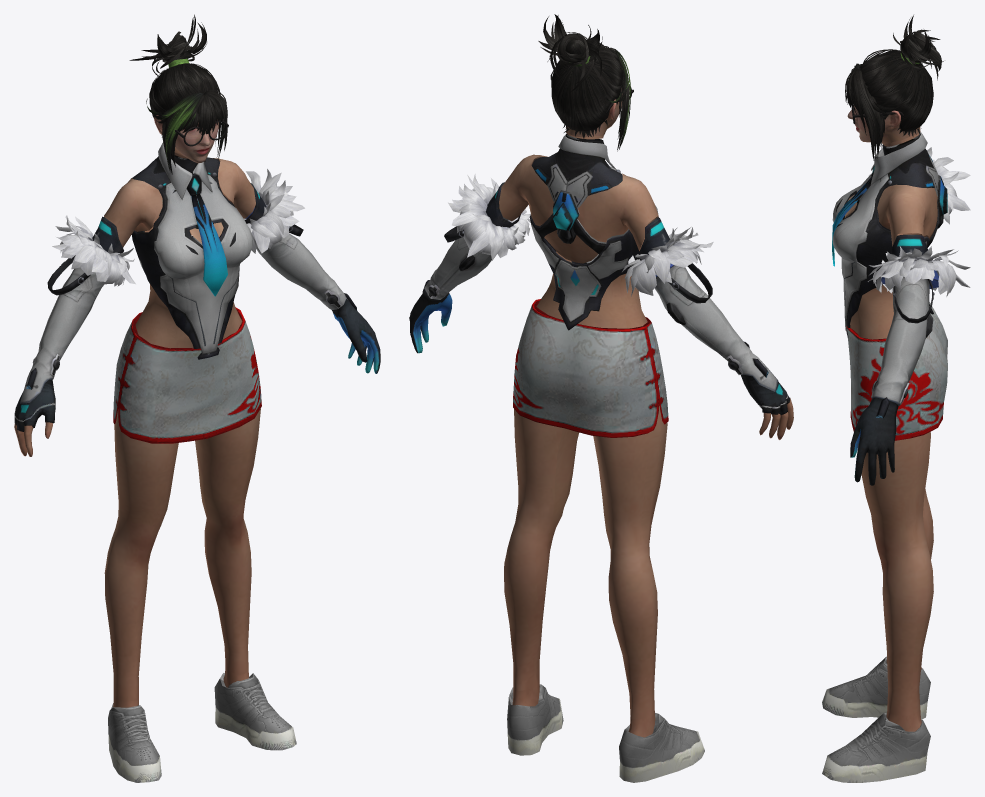
File: asset.glb
3 renders of one model, left to right at view 1: azimuth 30°, elevation 25°; view 2: azimuth 150°, elevation 25°; view 3: azimuth 270°, elevation 25°, orthographic. The views are drawn at different scales.
Visible parts, largest first — view 1: Object_4, Object_8, Object_7, Object_2, Object_9, Object_5, Object_3; view 2: Object_4, Object_8, Object_7, Object_9, Object_2, Object_5; view 3: Object_4, Object_8, Object_2, Object_9, Object_7, Object_5, Object_3.
Part boxes in pixels (<box>): Object_4: <box>14,152,260,707</box>; Object_8: <box>14,142,380,431</box>; Object_7: <box>113,307,261,443</box>; Object_2: <box>108,673,296,782</box>; Object_9: <box>129,14,227,174</box>; Object_5: <box>52,169,304,286</box>; Object_3: <box>154,115,218,163</box>; Object_4: <box>499,131,793,737</box>; Object_8: <box>409,133,789,414</box>; Object_7: <box>513,299,668,437</box>; Object_9: <box>538,14,630,151</box>; Object_2: <box>507,684,704,782</box>; Object_5: <box>448,174,713,296</box>; Object_4: <box>845,131,937,731</box>; Object_8: <box>832,131,947,485</box>; Object_2: <box>822,656,930,782</box>; Object_9: <box>845,15,943,160</box>; Object_7: <box>846,302,947,440</box>; Object_5: <box>867,147,970,296</box>; Object_3: <box>847,105,920,143</box>.
Size of the model in its own units: 176 by 334 by 62.29.
Materials: 8 (8 with a texture image).
